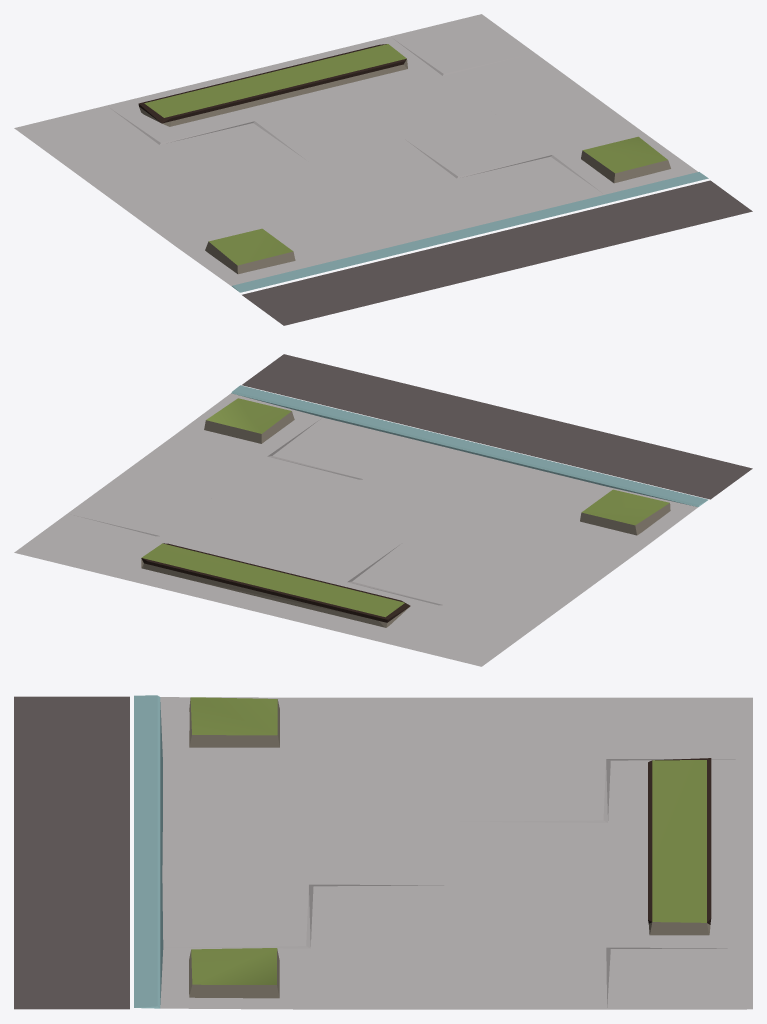
File: QmUqn3afZ4BN4CdBHdvqK7EPdBf3Peuqk9iZ1pzLxTuXhF_lod2.fbx
3 views of the same model, one above another, from view 1: azimuth 30°, elevation 25°; view 2: azimuth 150°, elevation 25°; view 3: azimuth 270°, elevation 25° (orthographic). The views are drawn at different scales.
Parts seen in each view (by area): view 1: Entity_512; view 2: Entity_512; view 3: Entity_512.
Part boxes in pixels (<box>): Entity_512: <box>14,14,752,325</box>; Entity_512: <box>14,354,752,666</box>; Entity_512: <box>14,695,752,1009</box>.
Bounding box in the file's own units: 15921 × 341 × 15907.
Materials: 1 (1 with a texture image).
